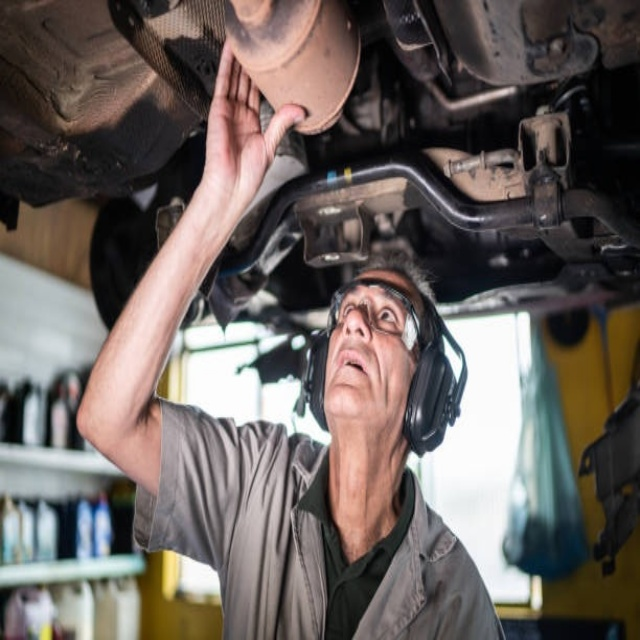Gafas: (325, 281, 413, 337)
Sin_guantes: (197, 33, 312, 220)
Sin_mascara: (327, 344, 379, 405)
